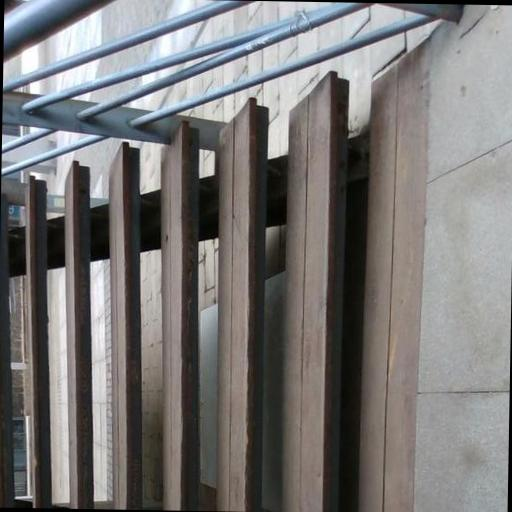stairs: (0, 72, 348, 511)
